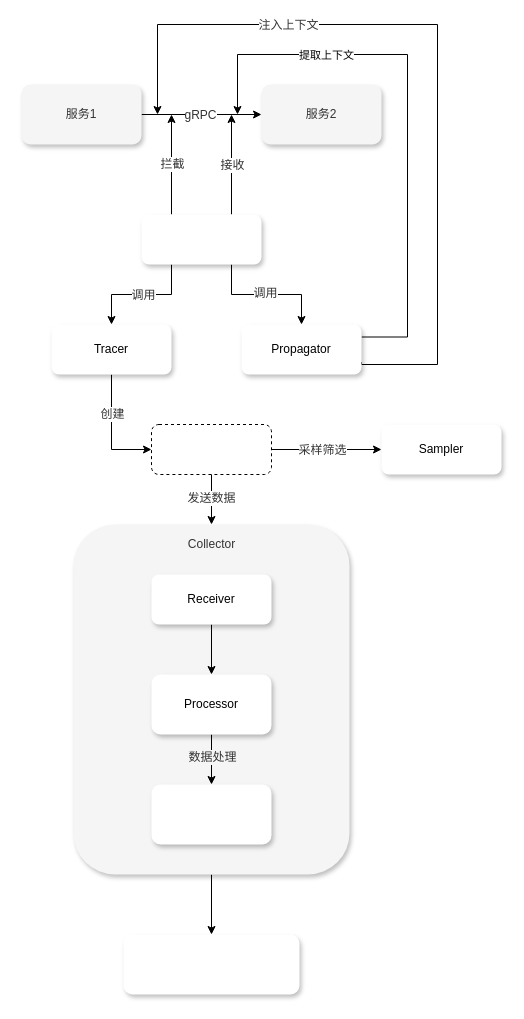
This 524x1019 diagram has some shape labels left out. The centre of each missing label's shape, as x and y in pixels:
Exporter: the point at 212,815
Interceptor: the point at 202,240
Trace/Span: the point at 211,449
存储后端 Prometheus/Jaeger/Zipkin: the point at 212,965
